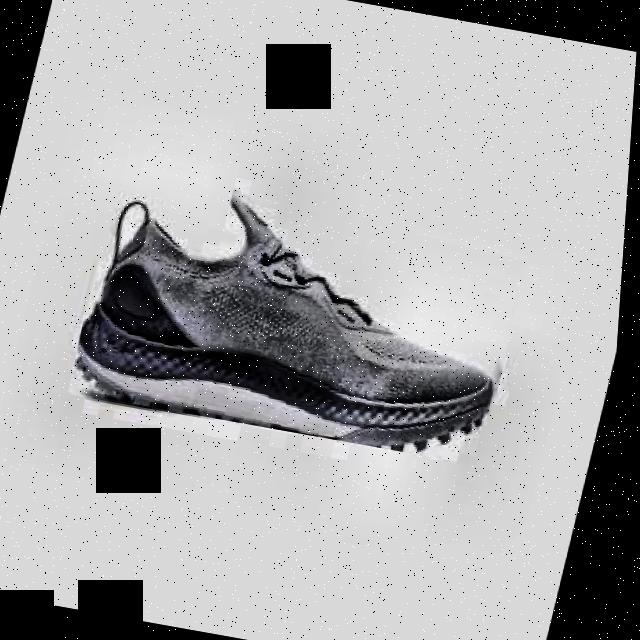shoe: (68, 165, 541, 465)
